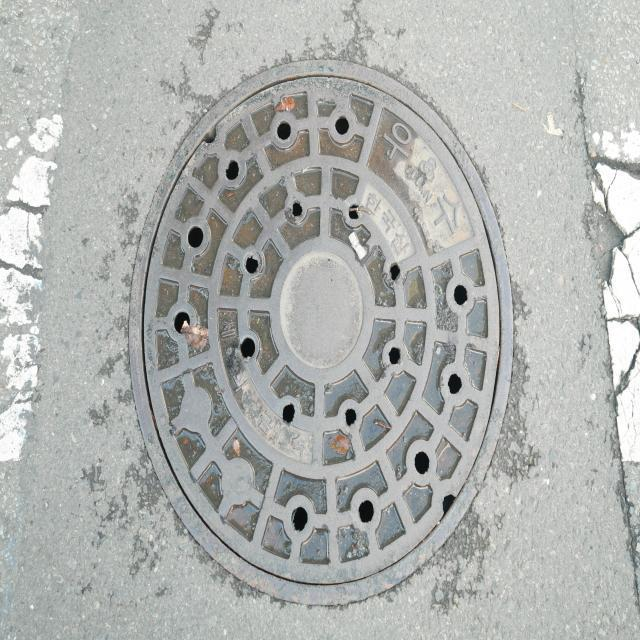manhole: (130, 61, 512, 604)
